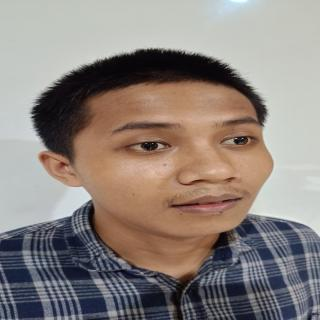Takut: (67, 69, 280, 246)
